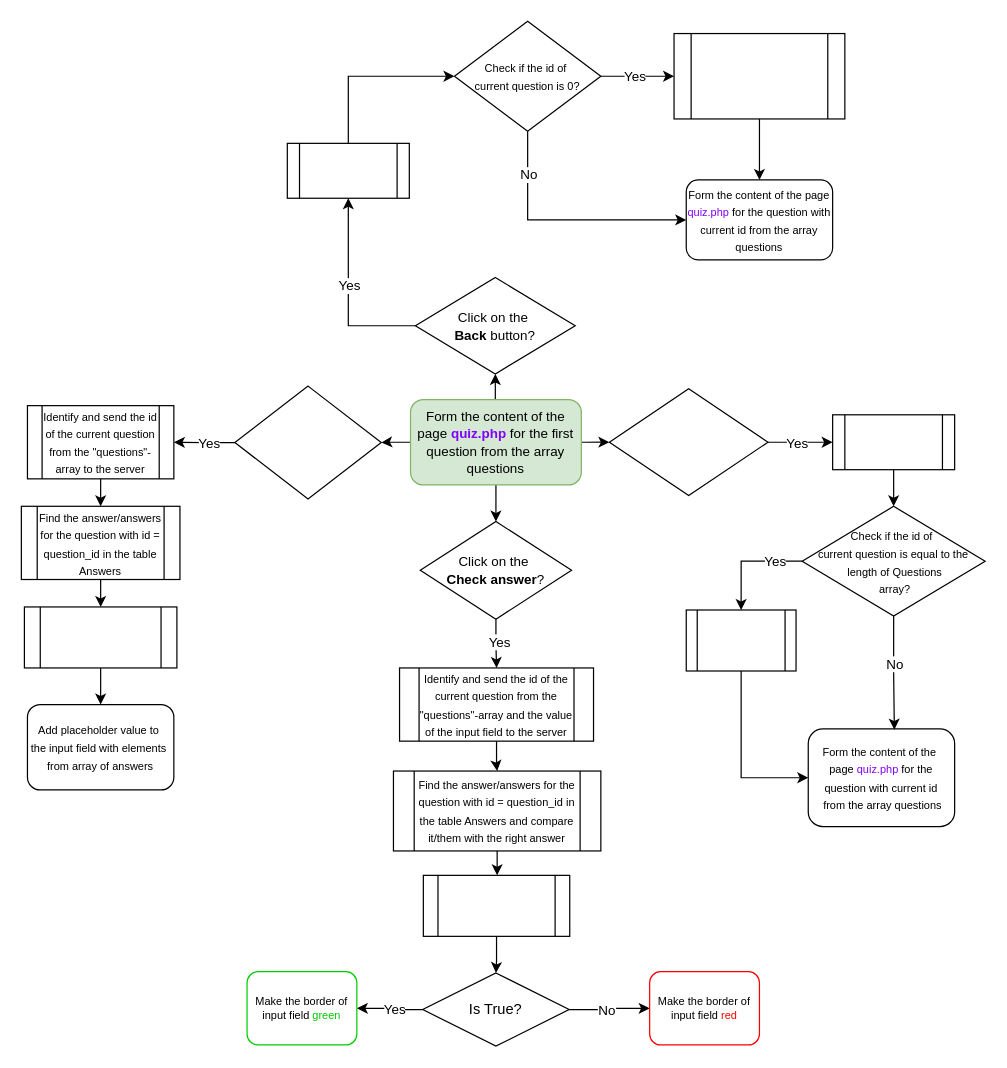
This 1007x1068 diagram has some shape labels left out. The shapes that lost their labels are listed below. From the top down, each one's centre as x and y in pixels, then its label:
At (759,75): "Set the id of the current question equal to the length of the array Questions".
At (347,170): "Decrease the id of the current question by 1".
At (307,442): "Click on the Show answer ?".
At (688,442): "Click on the Next button?".
At (893,442): "Increase the id of the current question by 1".
At (100,637): "Send response with array of answers to the browser".
At (740,640): "Set the id of the current question equal to 0".
At (496,905): "Send response True or False back to the server".
